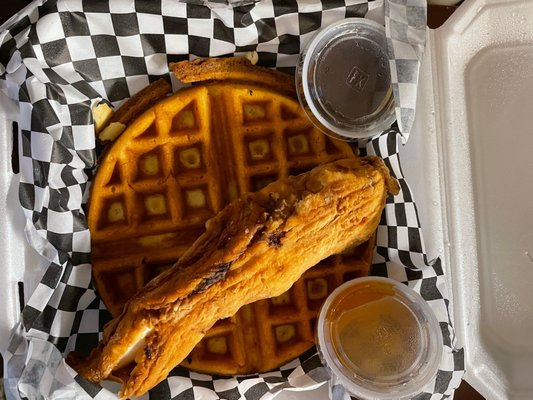soup: (72, 155, 393, 398)
